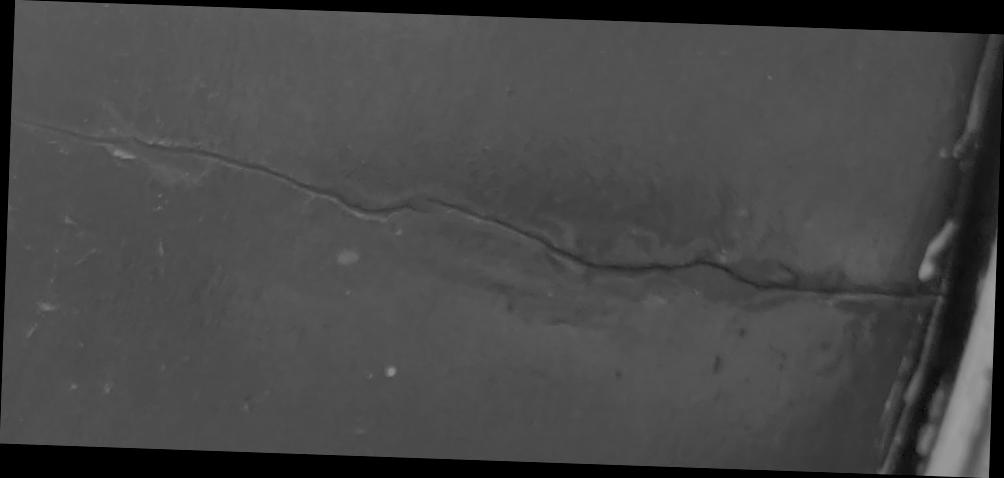crack: (0, 1, 1003, 478)
